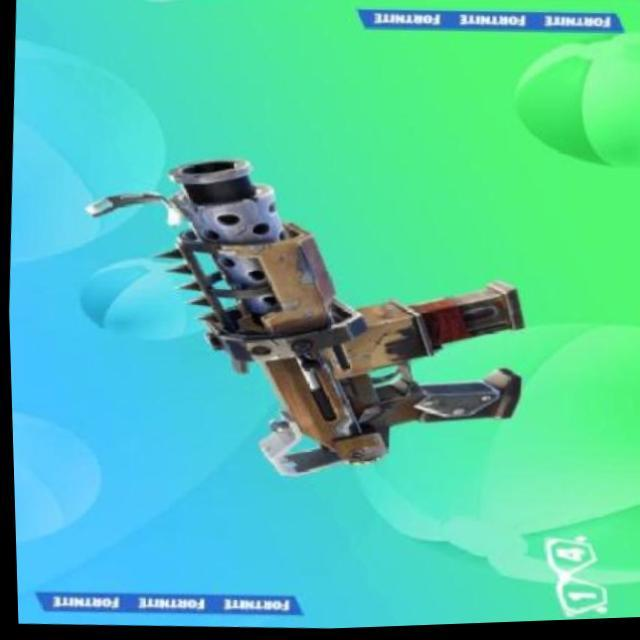weapon: (66, 142, 535, 497)
